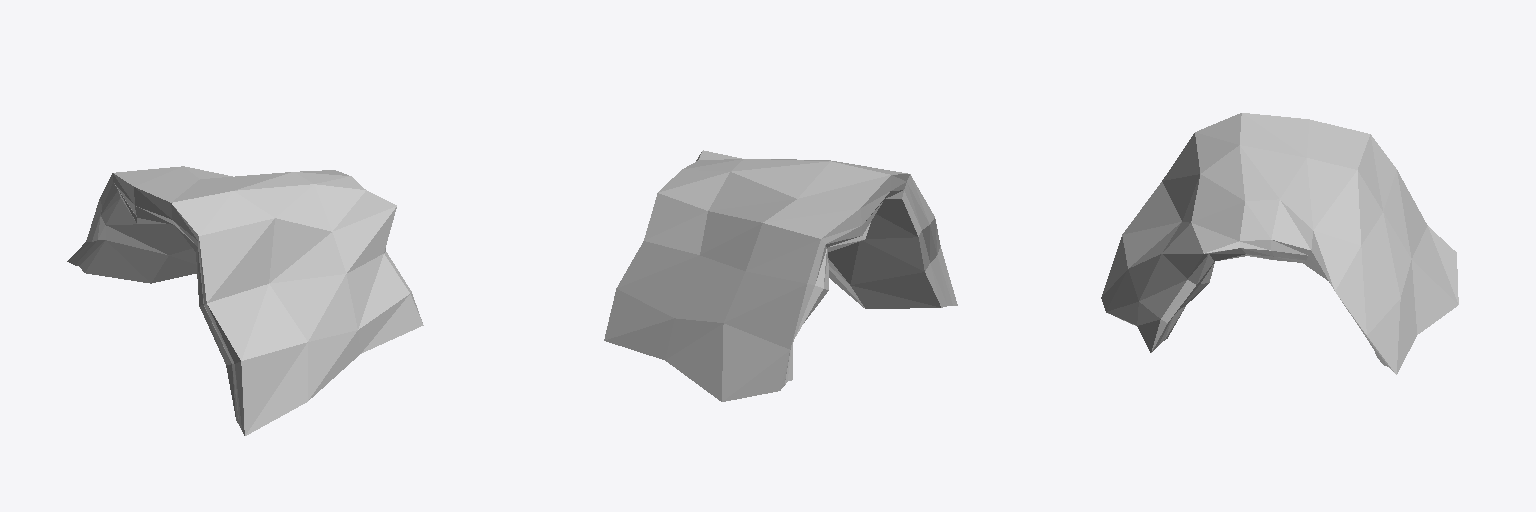
File: cave.obj
3 views of the same model, side by side, from view 1: azimuth 30°, elevation 25°; view 2: azimuth 150°, elevation 25°; view 3: azimuth 270°, elevation 25° (orthographic).
Visible parts, largest first — view 1: Plane.001_Plane; view 2: Plane.001_Plane; view 3: Plane.001_Plane.
Boxes of the visible parts, x1=… form: Plane.001_Plane: x1=67, y1=166, x2=423, y2=435; Plane.001_Plane: x1=604, y1=150, x2=957, y2=401; Plane.001_Plane: x1=1101, y1=113, x2=1458, y2=374.
Size of the model in its own units: 79.43 by 64.93 by 114.